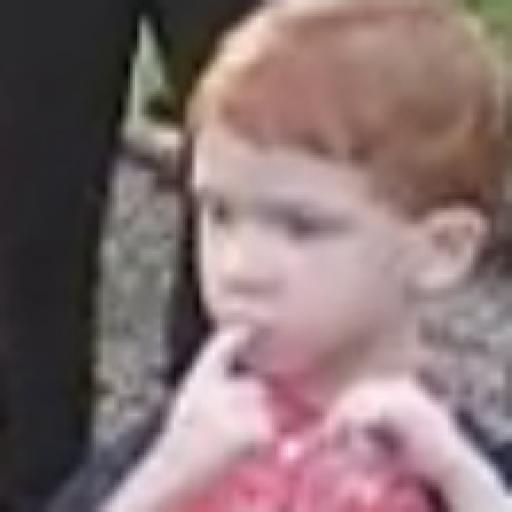Autism: (168, 39, 512, 413)
